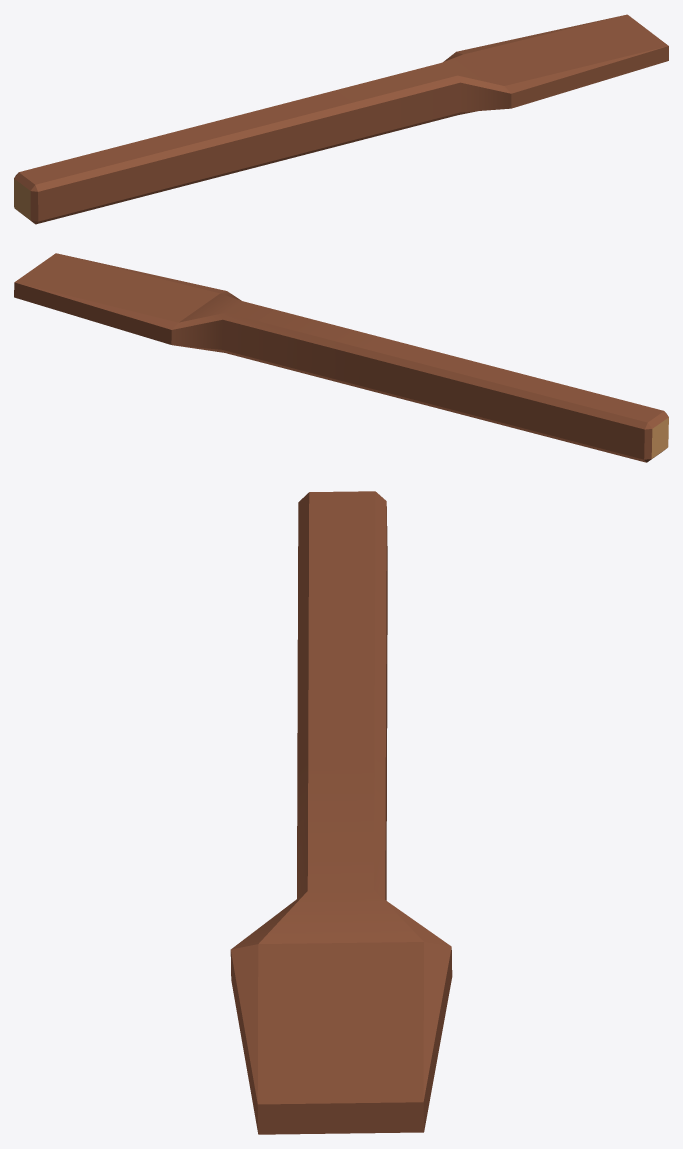
Rendered from Paddle.fbx.
3 views of the same model, one above another, from view 1: azimuth 30°, elevation 25°; view 2: azimuth 150°, elevation 25°; view 3: azimuth 270°, elevation 25° (orthographic). The views are drawn at different scales.
Parts seen in each view (by area): view 1: Paddle; view 2: Paddle; view 3: Paddle.
Boxes of the visible parts, bbox=[...] form: Paddle: bbox=[14, 14, 668, 224]; Paddle: bbox=[14, 253, 668, 462]; Paddle: bbox=[230, 491, 452, 1134].
Size of the model in its own units: 0.5883 by 0.0423 by 0.0902.
